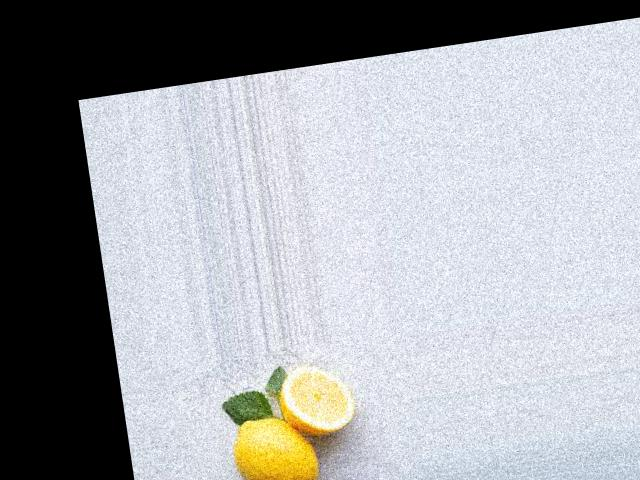lemon: (221, 390, 328, 480)
